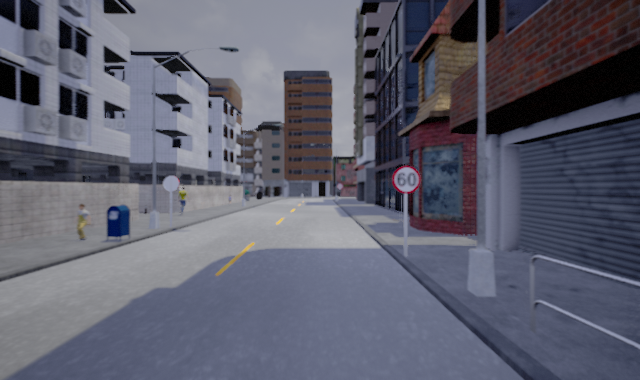pedestrian: (72, 199, 90, 242), (174, 185, 190, 215)
